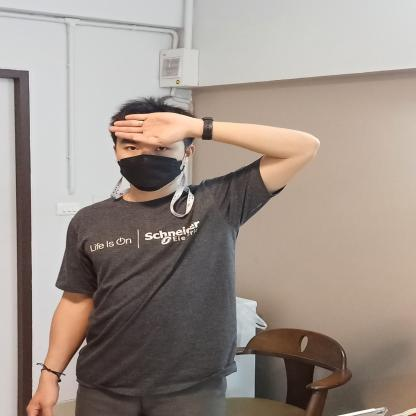Sick: (85, 100, 331, 218)
